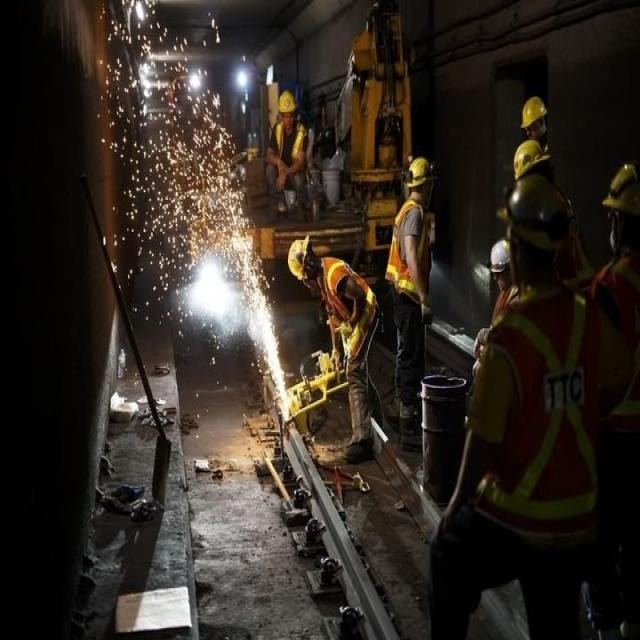Con_Casco: (288, 234, 315, 291), (406, 157, 436, 197), (520, 98, 548, 139)
Con_Chaleco: (317, 256, 376, 362), (388, 198, 433, 297), (272, 121, 307, 178)
